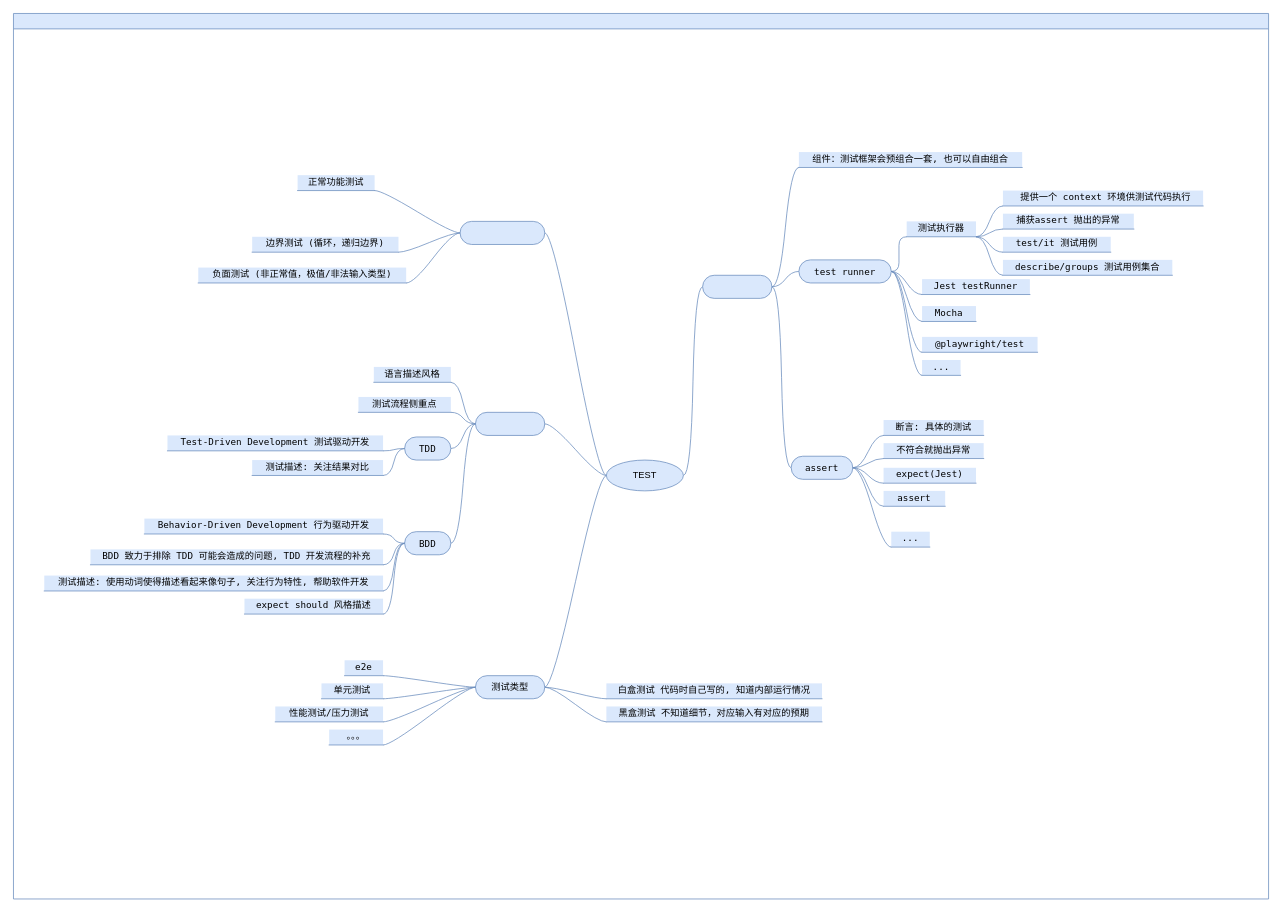
Image size: 1282x912. Some labels were removed from this diagram. The box of each missing label's shape, as (x1, y1, x2, y2) in pixels:
代码编写要求: (459, 221, 545, 244)
测试框架: (702, 275, 772, 298)
测试风格: (475, 412, 545, 435)
